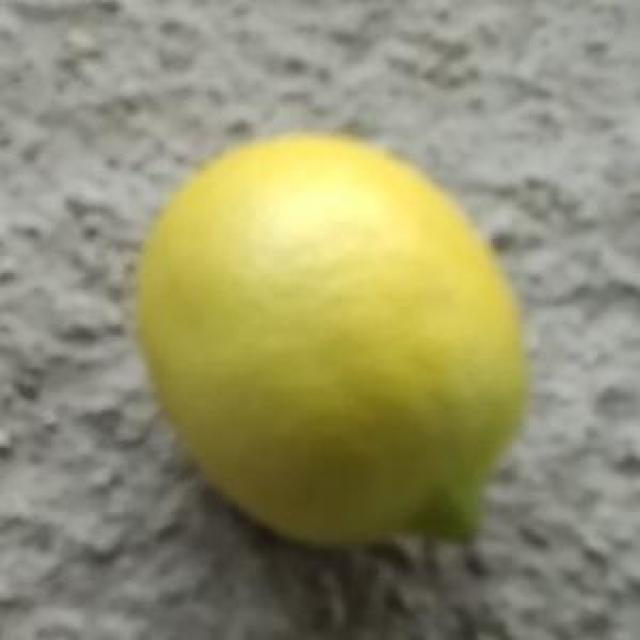lemon: (138, 133, 523, 545)
